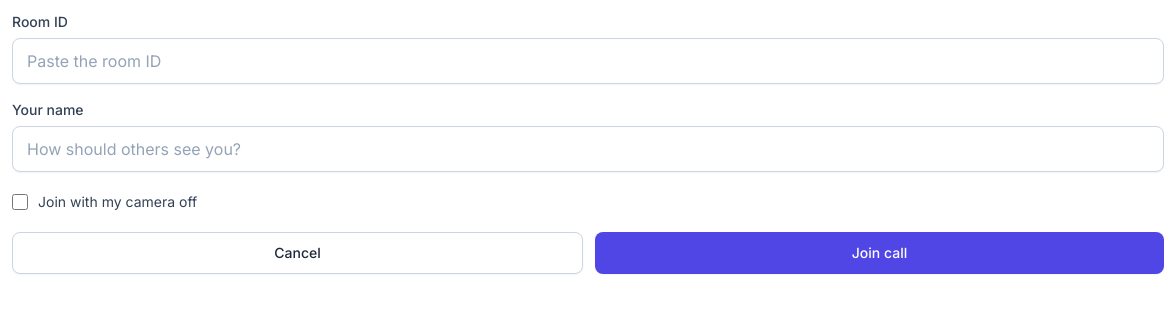
Test case: JoinRoomContent › joining a call (guest) › asks for the missing pieces
What coordinates should you click on to do the following:
click the button "Join call"
I would click on:
 (880, 253)
Its box is 595,232 -> 1164,274.
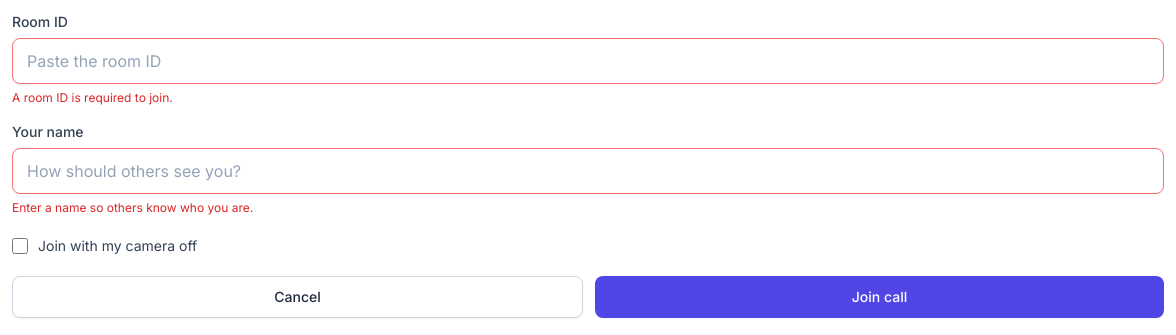
Expected: the text "A room ID is required to join." is shown, 12,90 -> 173,105
Expected: the text "Enter a name so others know who you are." is shown, 12,200 -> 253,215
